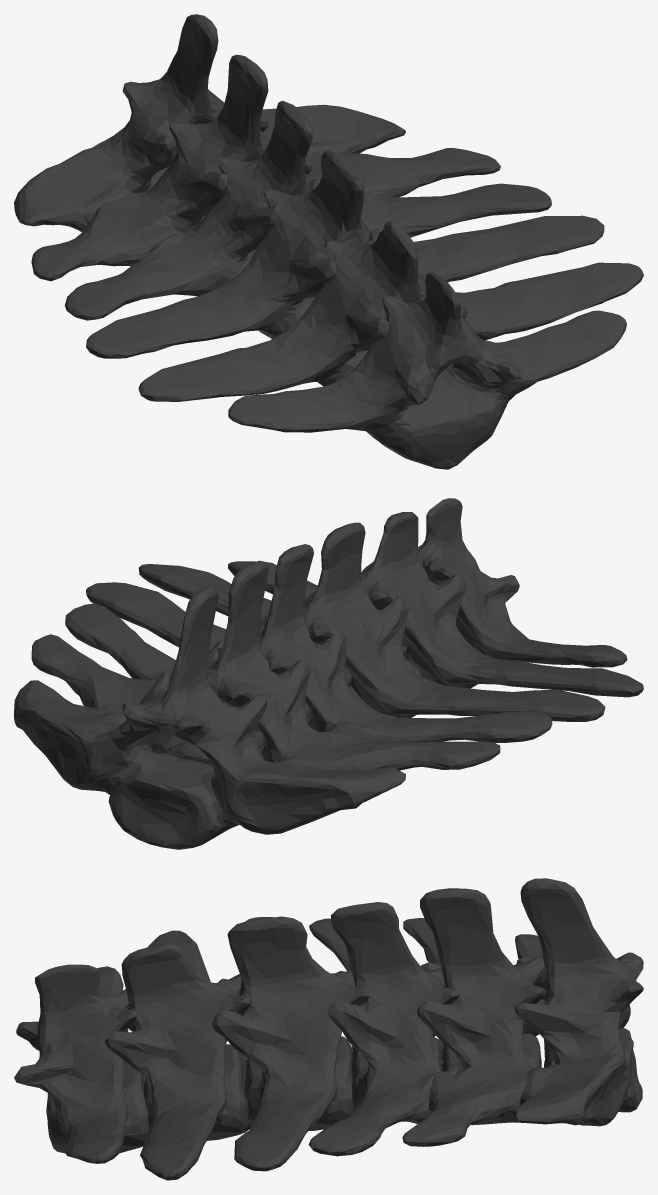
File: LUMBAR_VERTEBRAE.glb
3 views of the same model, one above another, from view 1: azimuth 30°, elevation 25°; view 2: azimuth 150°, elevation 25°; view 3: azimuth 270°, elevation 25° (orthographic).
Visible parts, largest first — view 1: LUMBAR_VERTEBRAE; view 2: LUMBAR_VERTEBRAE; view 3: LUMBAR_VERTEBRAE.
Part boxes in pixels (box(x1,y1,x2,y2)): LUMBAR_VERTEBRAE: box(14, 14, 643, 469); LUMBAR_VERTEBRAE: box(14, 498, 643, 849); LUMBAR_VERTEBRAE: box(14, 878, 643, 1180).
Size of the model in its own units: 0.3833 by 0.1969 by 0.4096.
1 material, 1 textured.
